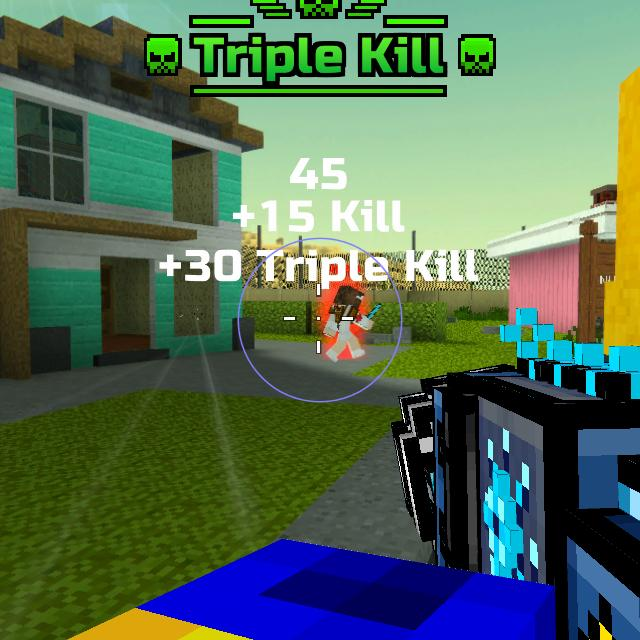Enemy: (323, 286, 374, 362)
